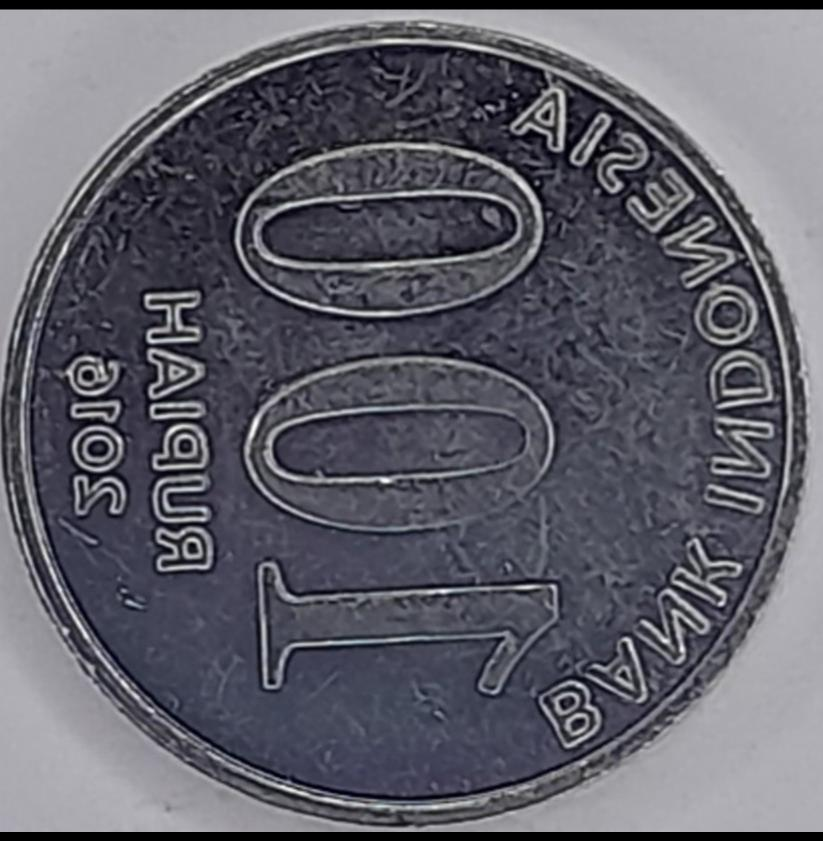coin_100_e2016: (0, 15, 815, 827)
